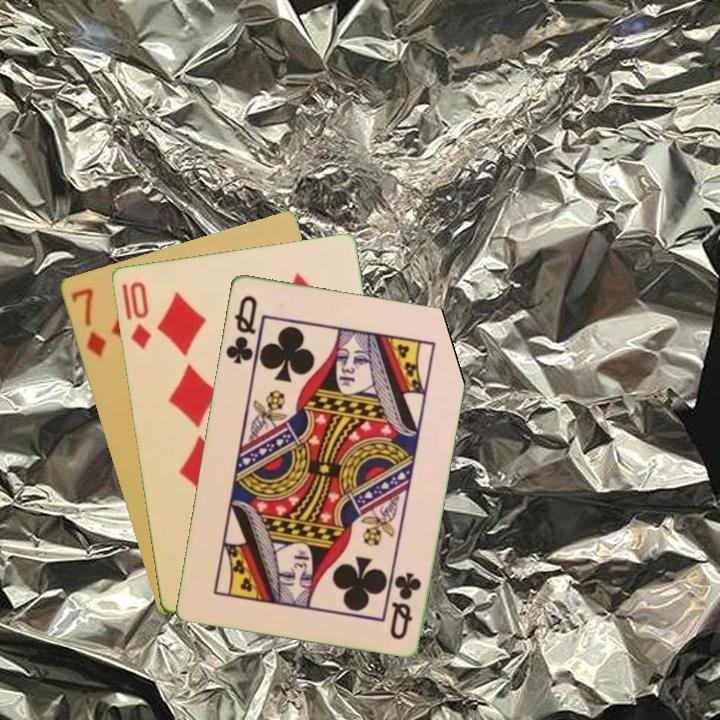10d: (118, 277, 154, 352)
7d: (66, 284, 109, 359)
Qc: (221, 291, 260, 367), (386, 568, 424, 642)
